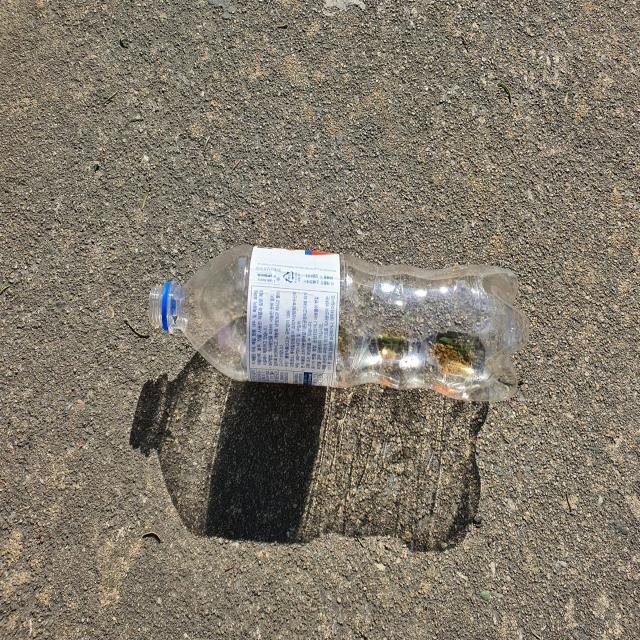plastic: (149, 244, 530, 402)
